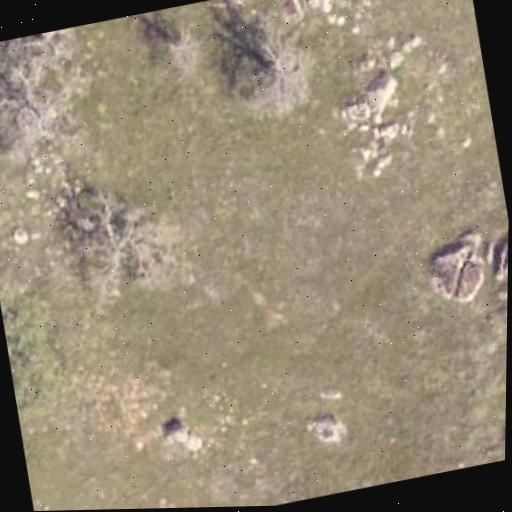tree-top: (55, 179, 185, 313), (213, 18, 329, 125), (0, 248, 68, 429), (0, 50, 84, 161), (151, 22, 216, 83), (0, 26, 83, 67)
